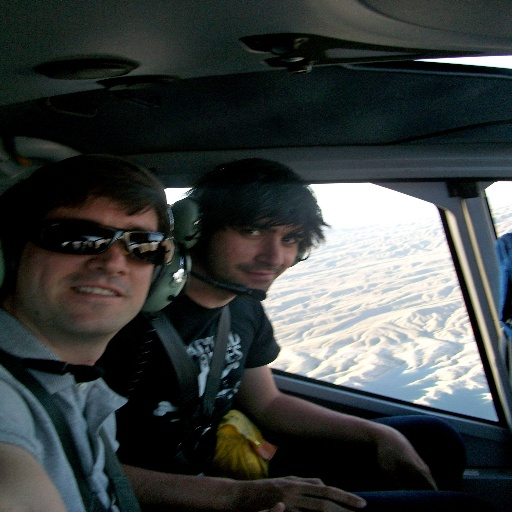hand: (205, 468, 371, 508), (378, 432, 439, 492)
